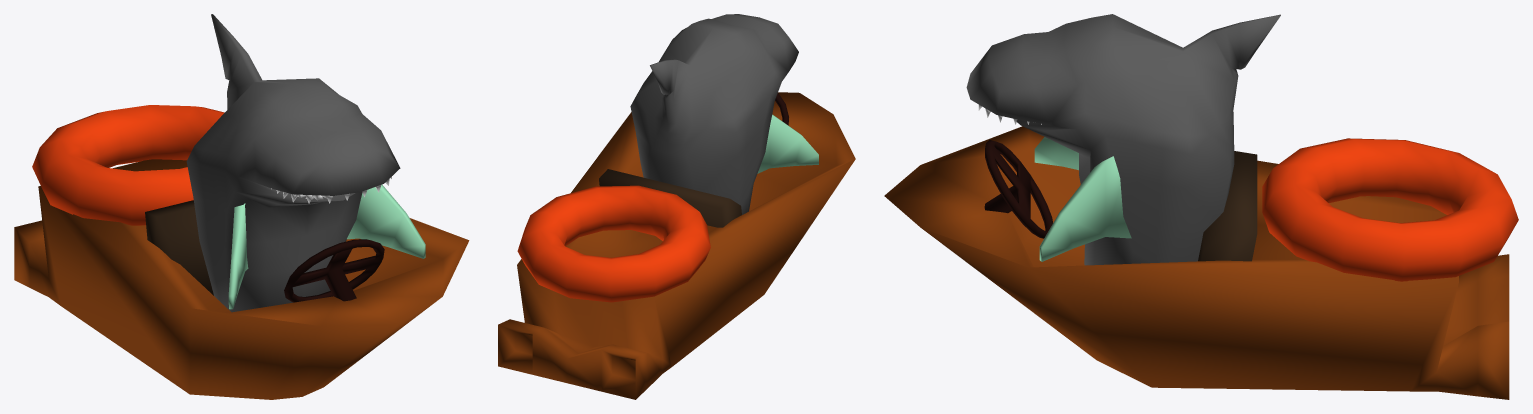
Rendered from autio1.FBX.
3 renders of one model, left to right at view 1: azimuth 30°, elevation 25°; view 2: azimuth 150°, elevation 25°; view 3: azimuth 270°, elevation 25°, orthographic. The views are drawn at different scales.
Parts seen in each view (by area): view 1: Box001, Box003, Torus002, Torus001, Box002; view 2: Box001, Box003, Torus002, Box002; view 3: Box001, Box003, Torus002, Box002, Torus001.
Boxes of the visible parts, <box> form: Box001: <box>14,159,469,399</box>; Box003: <box>186,14,425,312</box>; Torus002: <box>32,105,224,225</box>; Torus001: <box>284,239,384,302</box>; Box002: <box>145,200,213,295</box>; Box001: <box>498,92,855,399</box>; Box003: <box>630,14,818,214</box>; Torus002: <box>517,185,710,302</box>; Box002: <box>599,169,741,227</box>; Box001: <box>884,126,1509,399</box>; Box003: <box>966,14,1280,265</box>; Torus002: <box>1262,138,1518,281</box>; Box002: <box>1198,151,1257,261</box>; Torus001: <box>984,140,1052,238</box>.
Size of the model in its own units: 34.8 by 38.61 by 65.09.
